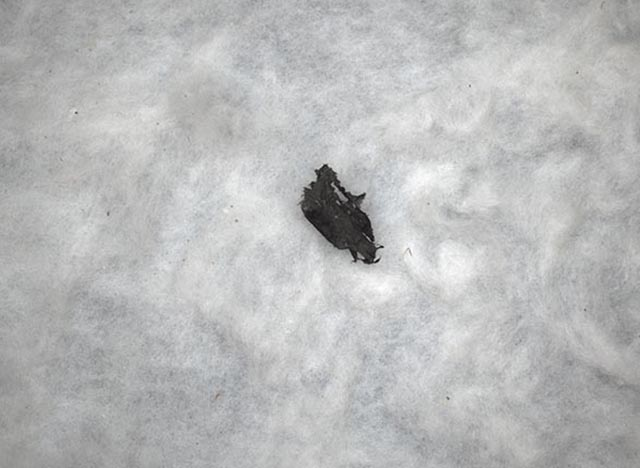plastic film: (298, 163, 385, 266)
